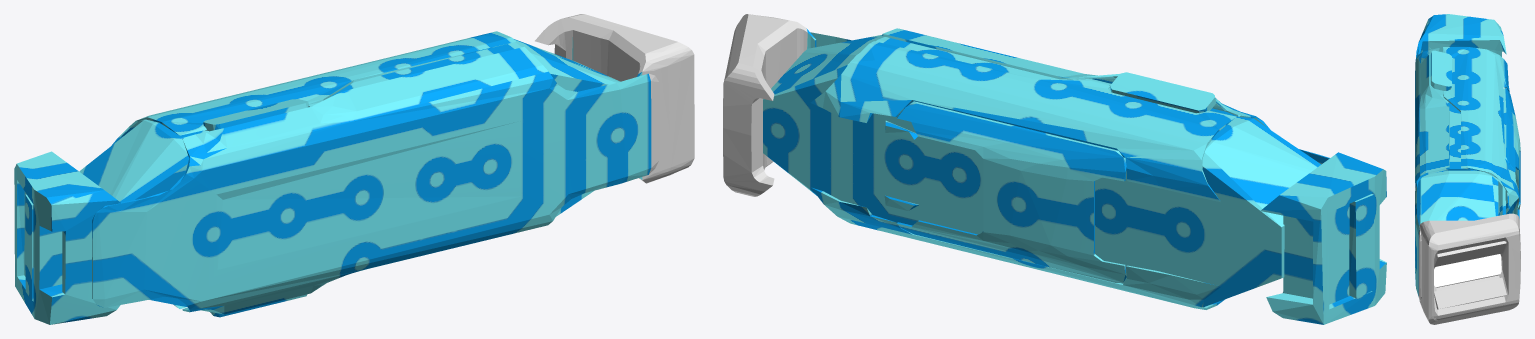
The picture shows the model from 3 angles, left to right: view 1: azimuth 30°, elevation 25°; view 2: azimuth 150°, elevation 25°; view 3: azimuth 270°, elevation 25°; orthographic projection. The views are drawn at different scales.
Parts seen in each view (by area): view 1: base.015; view 2: base.015; view 3: base.015.
Boxes of the visible parts, bbox=[...] form: base.015: bbox=[14, 14, 694, 324]; base.015: bbox=[723, 14, 1386, 324]; base.015: bbox=[1415, 14, 1520, 324].
Bounding box in the file's own units: 0.8673 × 0.2473 × 0.1735.
3 materials, 1 textured.
